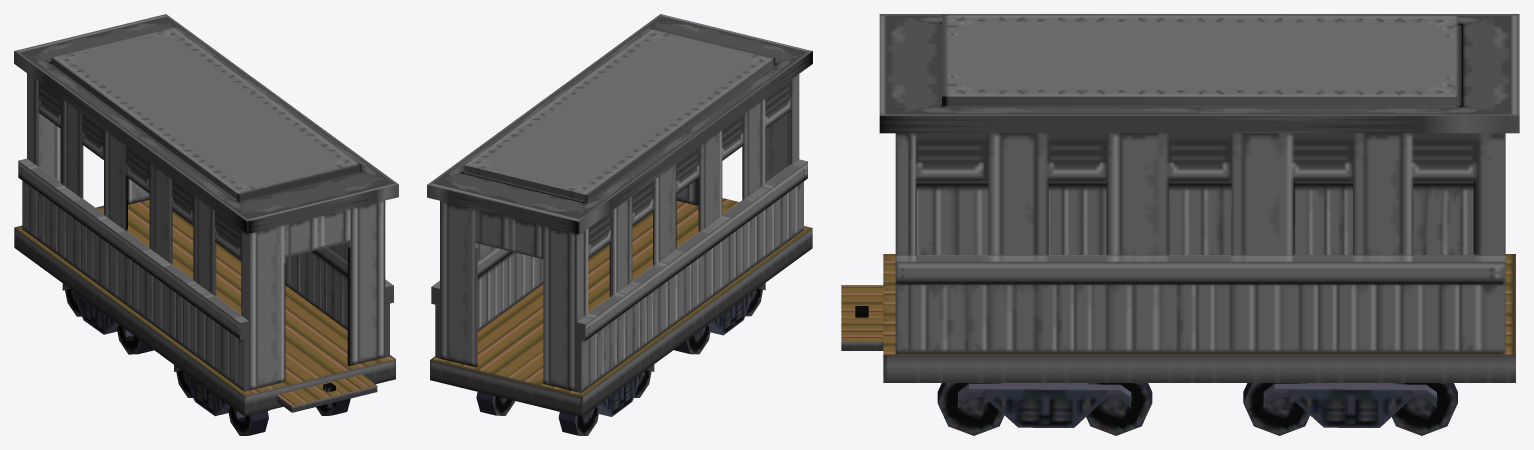
Rendered from Vagon_Generico.fbx.
3 views of the same model, side by side, from view 1: azimuth 30°, elevation 25°; view 2: azimuth 150°, elevation 25°; view 3: azimuth 270°, elevation 25° (orthographic). The views are drawn at different scales.
Visible parts, largest first — view 1: Body, Ceiling, Base; view 2: Body, Ceiling, Base; view 3: Body, Ceiling, Base.
Part boxes in pixels (bbox=[...]): Body: bbox=[18, 73, 393, 391]; Ceiling: bbox=[14, 14, 398, 233]; Base: bbox=[14, 199, 395, 435]; Body: bbox=[431, 74, 807, 392]; Ceiling: bbox=[427, 14, 812, 234]; Base: bbox=[430, 198, 812, 435]; Body: bbox=[895, 133, 1505, 354]; Ceiling: bbox=[879, 14, 1519, 133]; Base: bbox=[841, 254, 1515, 435].
Size of the model in its own units: 344 by 539 by 954.
Materials: 2 (2 with a texture image).
